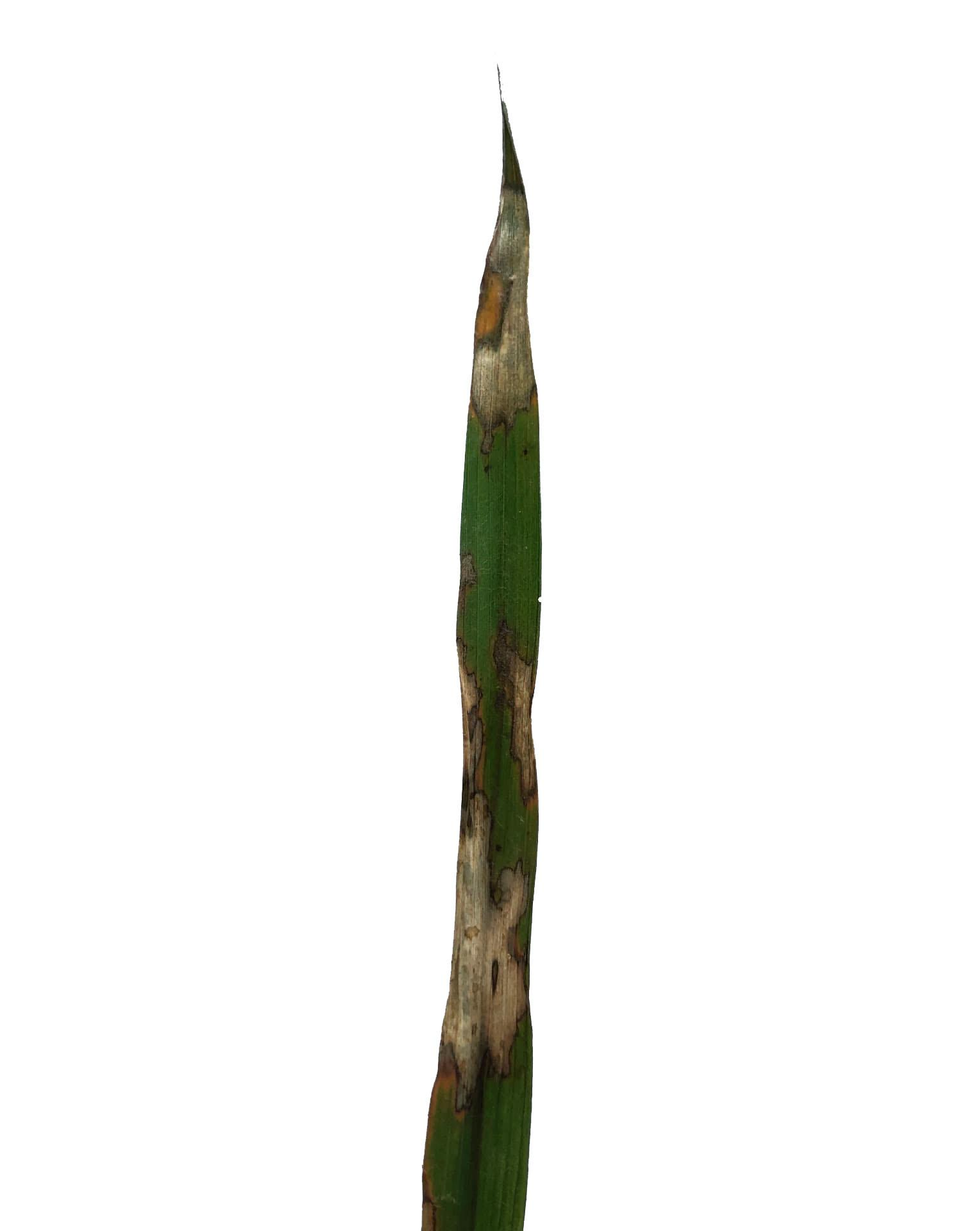Blight: (426, 96, 558, 1231), (449, 632, 552, 1071), (459, 54, 555, 439)
